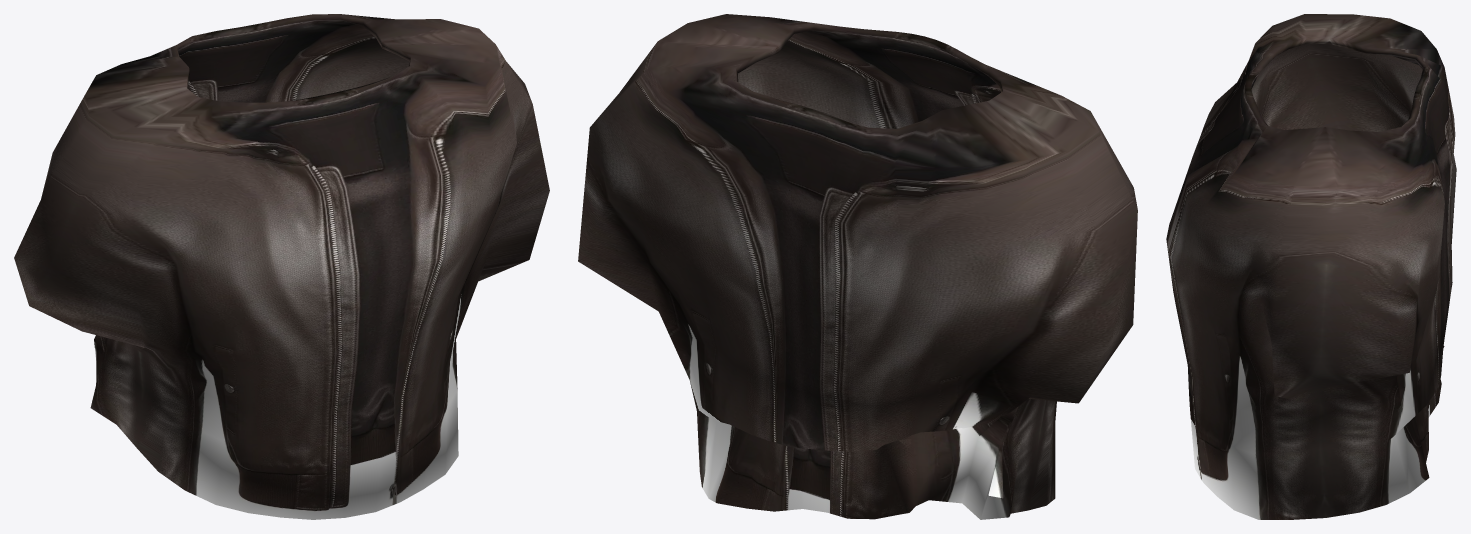
3 renders of one model, left to right at view 1: azimuth 30°, elevation 25°; view 2: azimuth 150°, elevation 25°; view 3: azimuth 270°, elevation 25°, orthographic. The views are drawn at different scales.
Visible parts, largest first — view 1: garment; view 2: garment; view 3: garment.
Part boxes in pixels (left/top/right/bottom): garment: left=14, top=14, right=549, bottom=519; garment: left=578, top=14, right=1137, bottom=519; garment: left=1166, top=14, right=1456, bottom=519.
Bounding box in the file's own units: 0.5751 × 0.4531 × 0.3153.
Materials: 1 (1 with a texture image).
